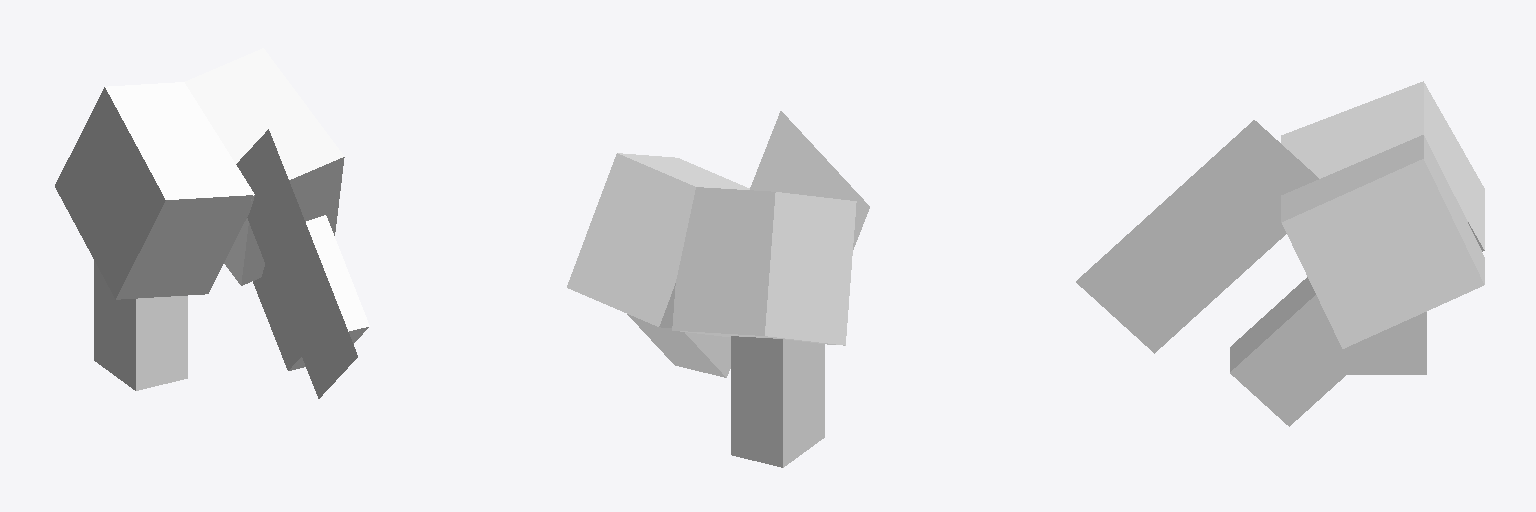
The model's file is mt_horse2_bt.obj.
3 renders of one model, left to right at view 1: azimuth 30°, elevation 25°; view 2: azimuth 150°, elevation 25°; view 3: azimuth 270°, elevation 25°, orthographic.
Parts seen in each view (by area): view 1: cube.000, cube.002, cube.001, cube, cube.003; view 2: cube.000, cube.002, cube, cube.001, cube.003; view 3: cube.002, cube.001, cube.003, cube.000, cube.
Part boxes in pixels (bbox=[...]): cube.000: bbox=[55, 82, 254, 299]; cube.002: bbox=[185, 48, 344, 285]; cube.001: bbox=[236, 129, 357, 398]; cube: bbox=[94, 261, 187, 390]; cube.003: bbox=[253, 215, 369, 370]; cube.000: bbox=[672, 187, 856, 345]; cube.002: bbox=[567, 153, 749, 327]; cube: bbox=[731, 336, 824, 467]; cube.001: bbox=[750, 111, 869, 249]; cube.003: bbox=[627, 314, 730, 377]; cube.002: bbox=[1281, 135, 1484, 348]; cube.001: bbox=[1076, 120, 1318, 353]; cube.003: bbox=[1230, 277, 1405, 426]; cube.000: bbox=[1281, 81, 1484, 251]; cube: bbox=[1347, 312, 1426, 374].
Bounding box in the file's own units: 1.26 × 1.51 × 2.05.